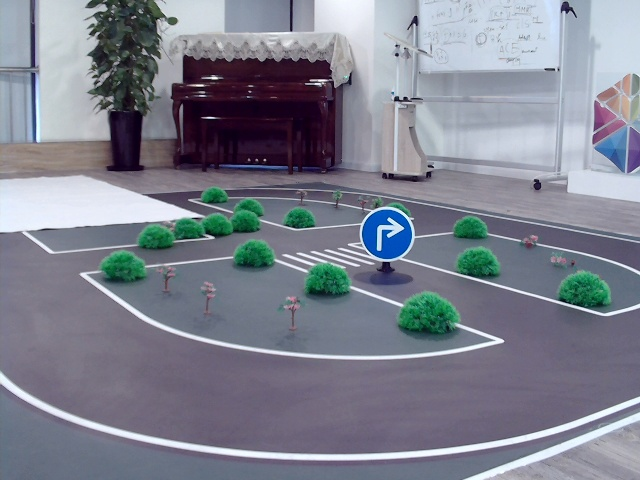turn_right: (370, 216, 403, 252)
